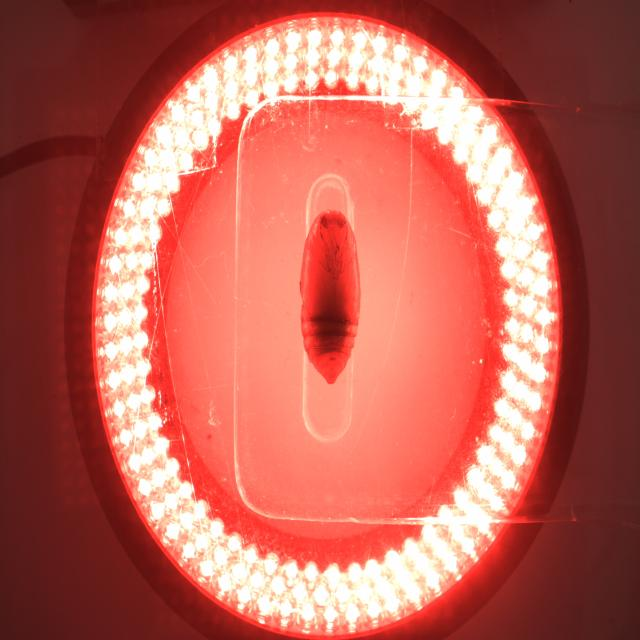male: (328, 356, 337, 362)
